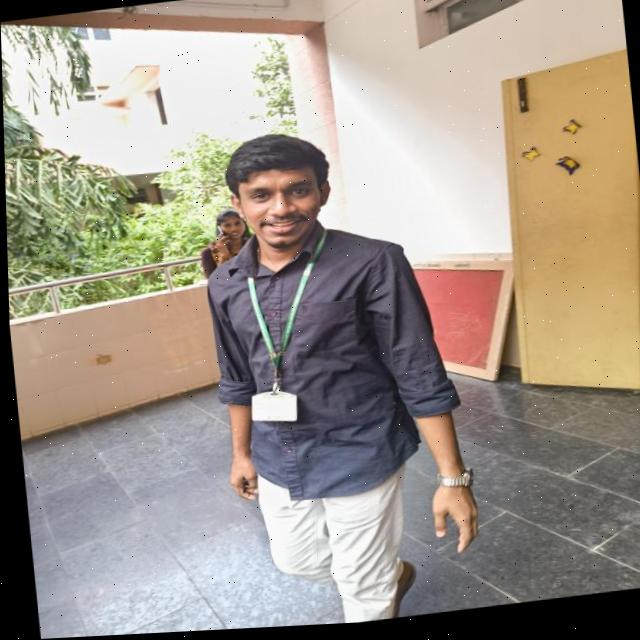id_card: (221, 247, 325, 435)
